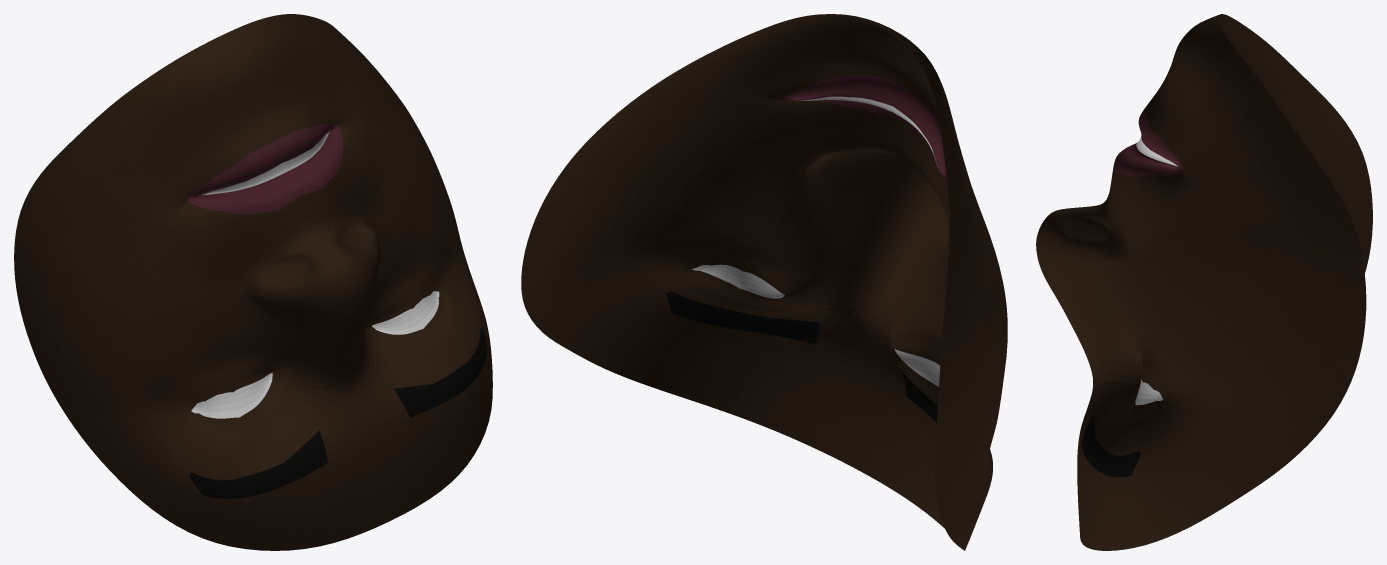
The model's file is VID-20250515-WA0003_f_01277.obj.
3 renders of one model, left to right at view 1: azimuth 30°, elevation 25°; view 2: azimuth 150°, elevation 25°; view 3: azimuth 270°, elevation 25°, orthographic. The views are drawn at different scales.
Parts seen in each view (by area): view 1: face_mesh_subdivided; view 2: face_mesh_subdivided; view 3: face_mesh_subdivided.
Boxes of the visible parts, <box> form: face_mesh_subdivided: <box>14,14,492,550</box>; face_mesh_subdivided: <box>521,14,1007,550</box>; face_mesh_subdivided: <box>1036,14,1372,550</box>.
Size of the model in its own units: 0.4578 by 0.5299 by 0.3315.
